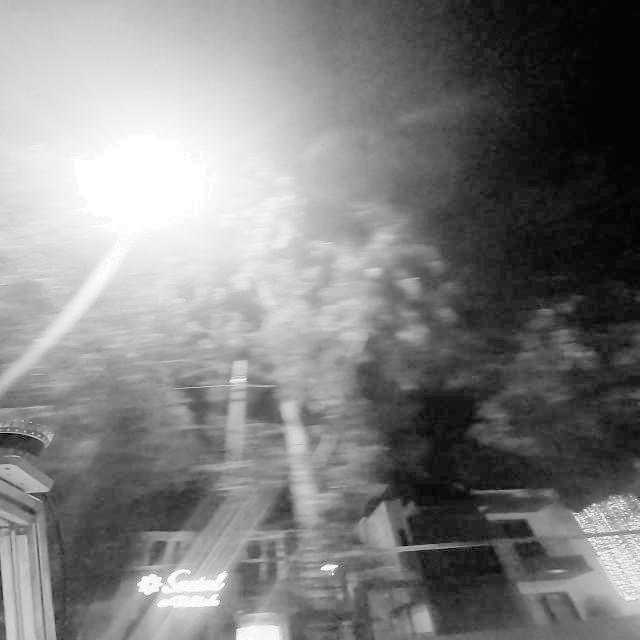Light: (62, 124, 227, 235)
